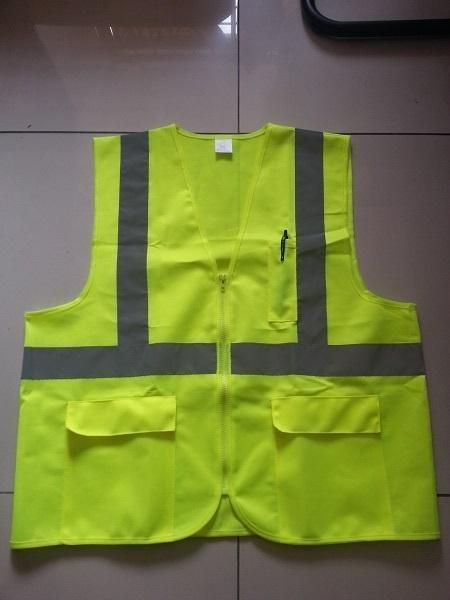vest: (4, 122, 442, 546)
